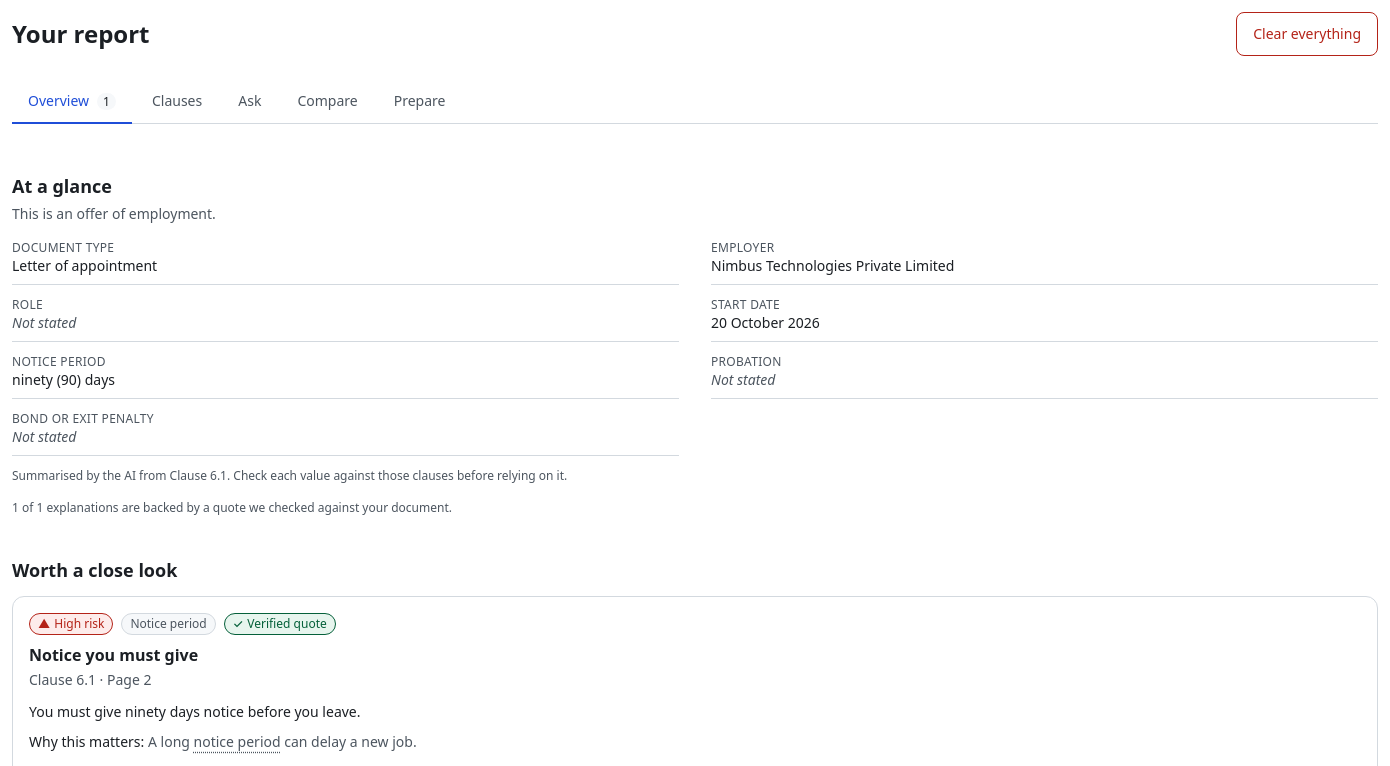
Test: ReportScreen: tabs › switches between every tab
The image size is (1390, 766).
Click the tab "Clauses" at (177,102), box [136,80,218,124]
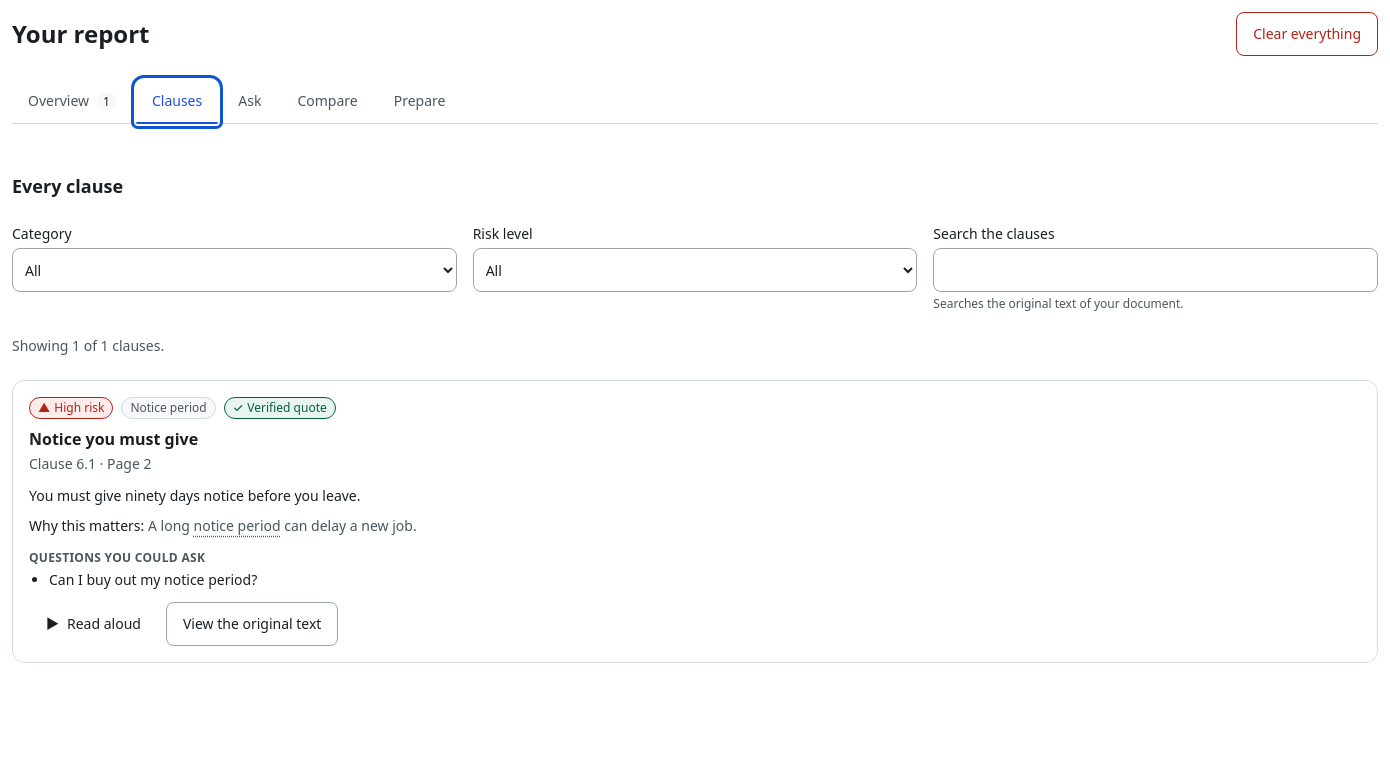
expect the heading "Every clause" is shown: met, box [12,174,123,198]
Click the tab "Ask" at (250,102), box [222,80,277,124]
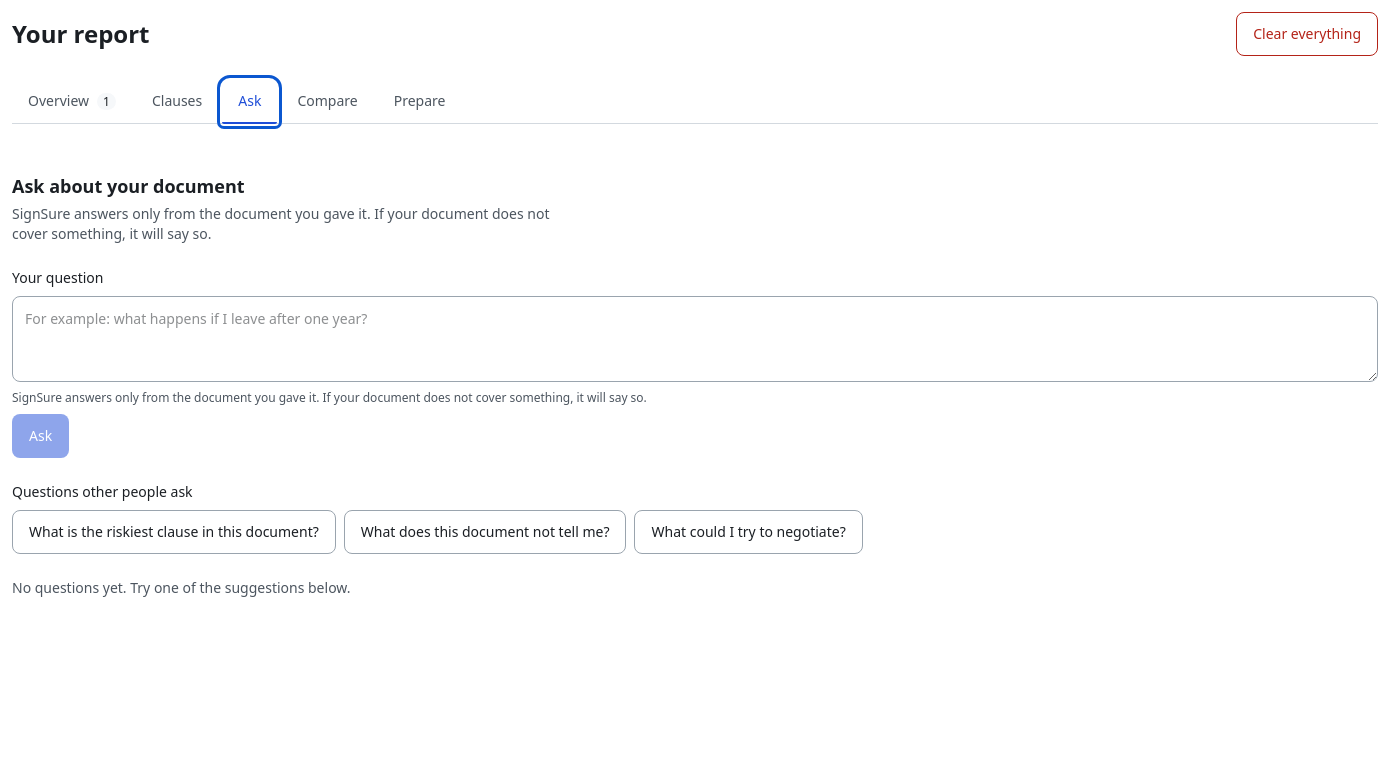
expect the heading "Ask about your document" is shown: met, box [12,174,245,198]
Click the tab "Compare" at (328,102), box [281,80,374,124]
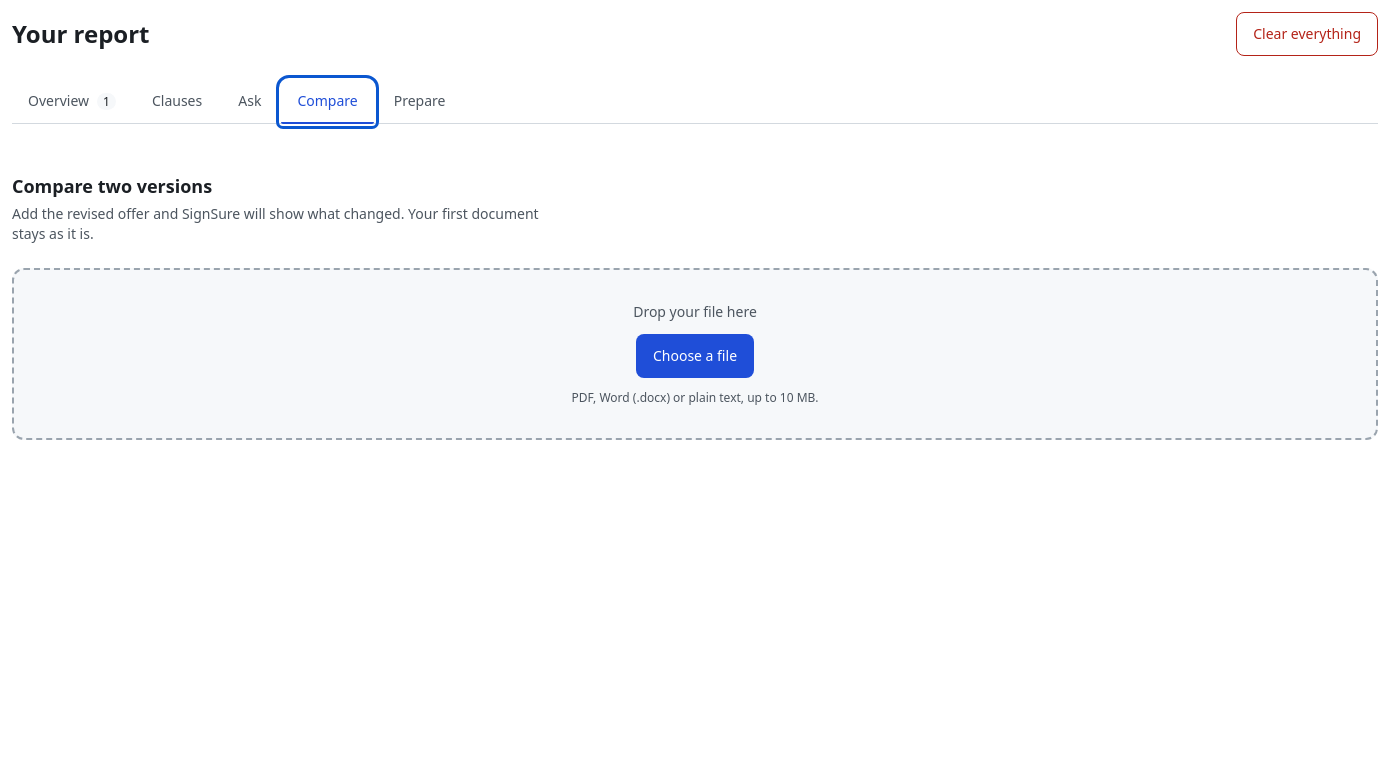
expect the heading "Compare two versions" is shown: met, box [12,174,212,198]
Click the tab "Prepare" at (420,102), box [378,80,461,124]
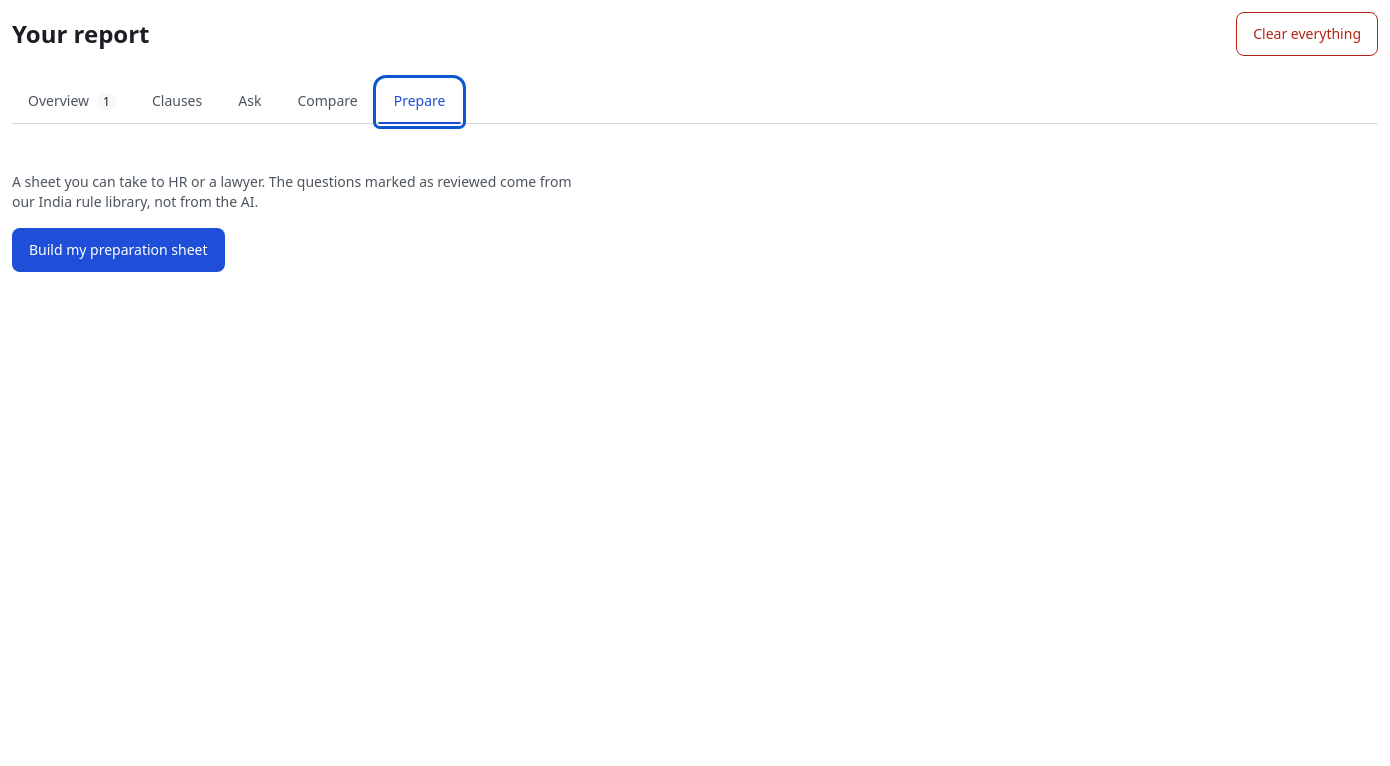
expect the button "Build my preparation sheet" is shown: met, box [12,228,225,272]
